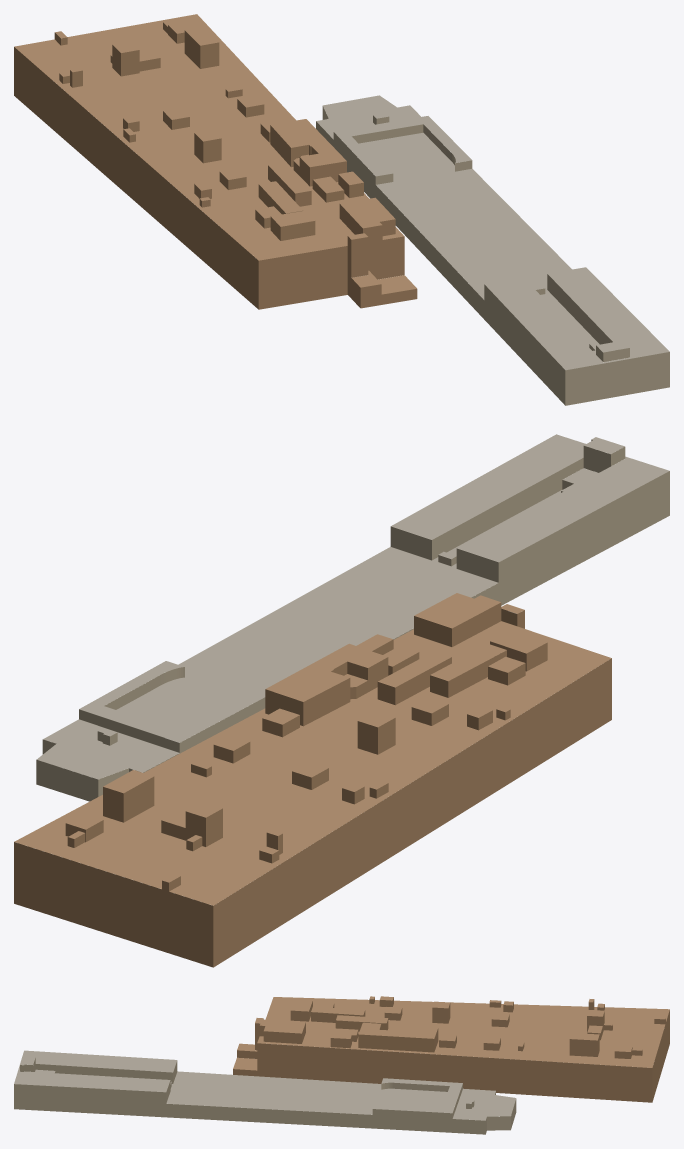
The model's file is tile--6_1.glb.
3 views of the same model, one above another, from view 1: azimuth 30°, elevation 25°; view 2: azimuth 150°, elevation 25°; view 3: azimuth 270°, elevation 25° (orthographic). The views are drawn at different scales.
Visible parts, largest first — view 1: roof, wall; view 2: roof, wall; view 3: roof, wall.
Boxes of the visible parts, left/top/right/bottom form: roof: left=14, top=14, right=669, bottom=370; wall: left=14, top=22, right=669, bottom=405; roof: left=14, top=434, right=669, bottom=905; wall: left=14, top=439, right=669, bottom=967; roof: left=14, top=996, right=669, bottom=1120; wall: left=14, top=997, right=669, bottom=1134.
Size of the model in its own units: 150 by 34.5 by 401.
